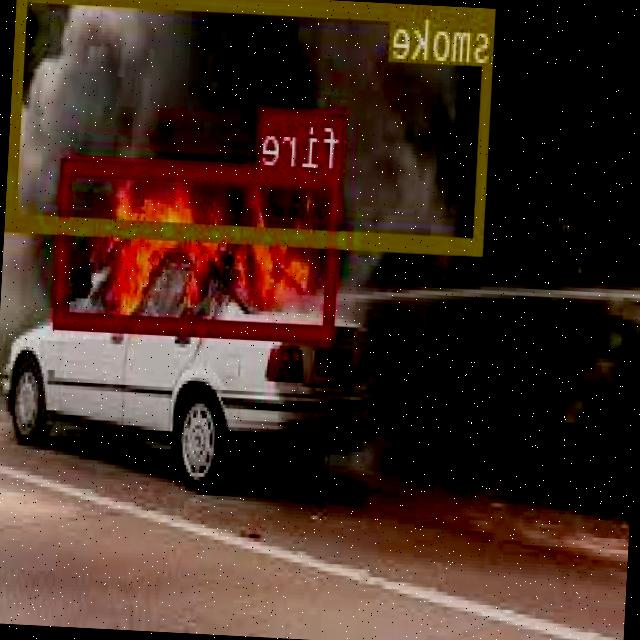fire: (56, 156, 344, 340)
smoke: (9, 0, 498, 250)
